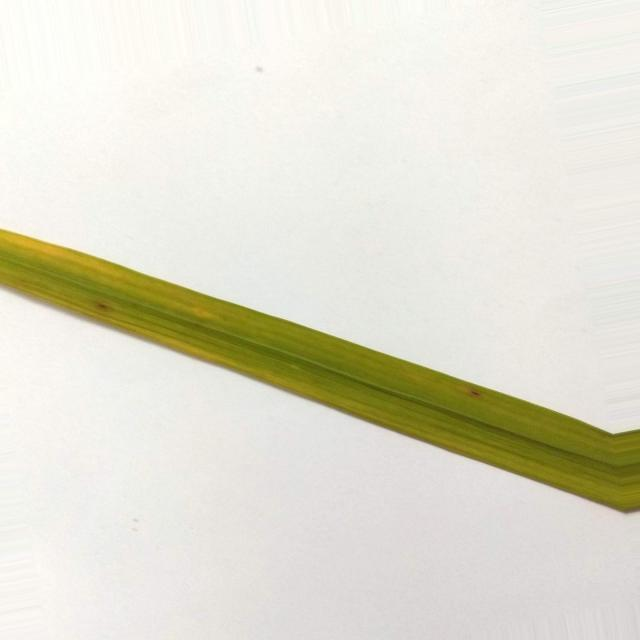Brown_Spot: (80, 294, 128, 325), (459, 385, 496, 409)
